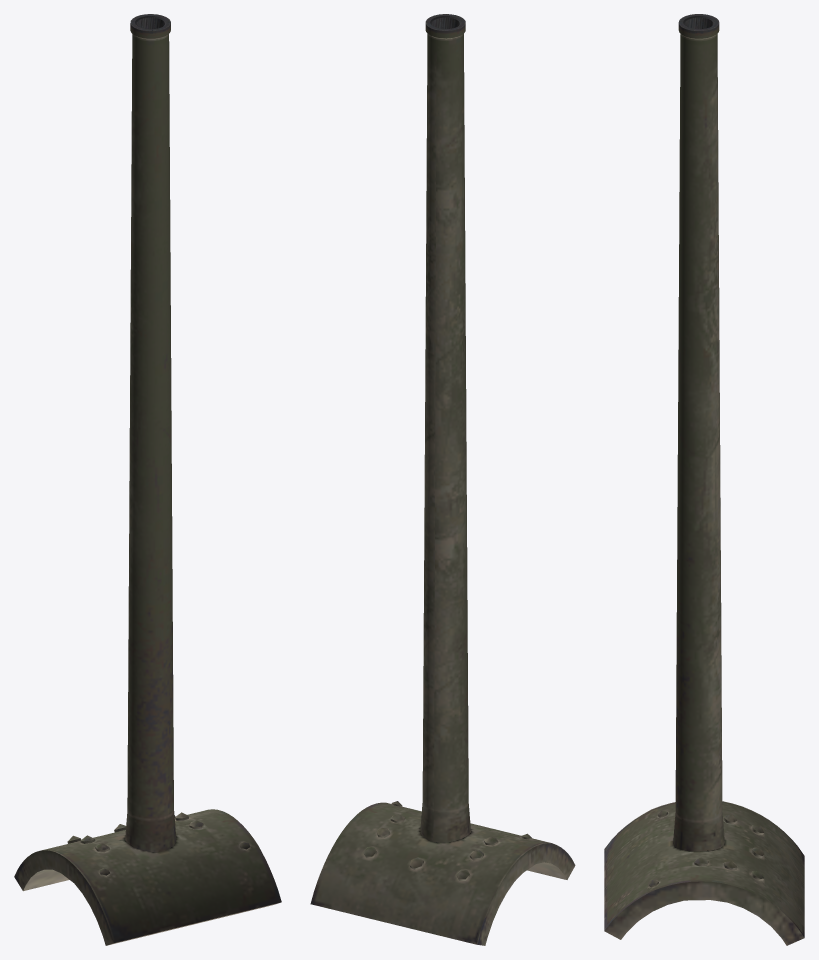
Rendered from Gun_09.glb.
3 renders of one model, left to right at view 1: azimuth 30°, elevation 25°; view 2: azimuth 150°, elevation 25°; view 3: azimuth 270°, elevation 25°, orthographic.
Parts seen in each view (by area): view 1: set_0_group_0; view 2: set_0_group_0; view 3: set_0_group_0.
Part boxes in pixels (box(x1,y1,x2,y2)): set_0_group_0: box(14, 14, 281, 945); set_0_group_0: box(310, 14, 575, 945); set_0_group_0: box(604, 14, 804, 945).
Bounding box in the file's own units: 0.7172 × 3.6 × 0.7406.
1 material, 1 textured.
